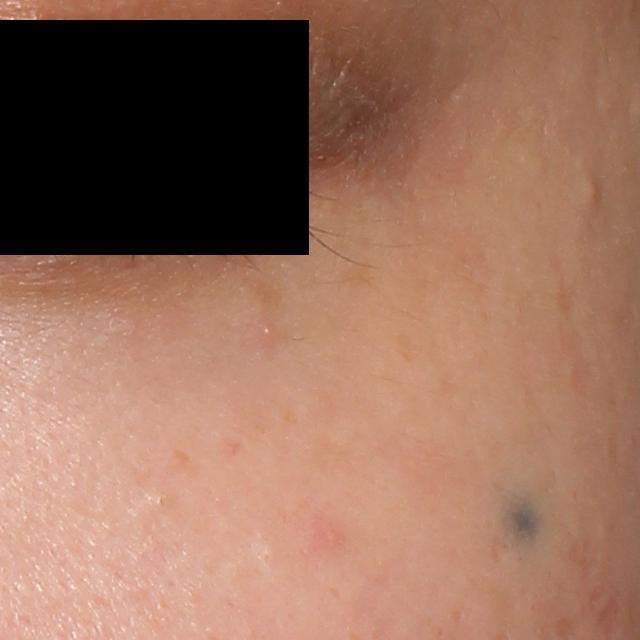comedo: (581, 178, 601, 205)
melasma: (340, 259, 375, 290)
nevus: (498, 488, 540, 544)
